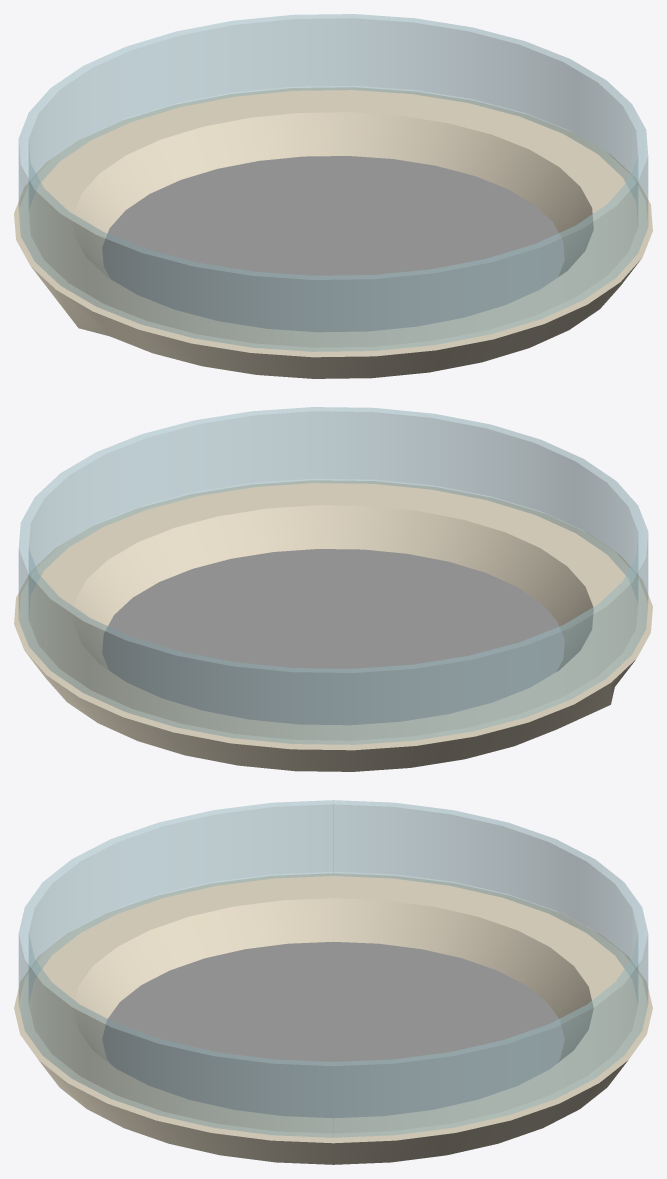
Rendered from Room_Base.glb.
3 renders of one model, top to bottom at view 1: azimuth 30°, elevation 25°; view 2: azimuth 150°, elevation 25°; view 3: azimuth 270°, elevation 25°, orthographic.
Parts seen in each view (by area): view 1: Room_Base.001; view 2: Room_Base.001; view 3: Room_Base.001.
Part boxes in pixels (bbox=[...]): Room_Base.001: bbox=[14, 14, 652, 378]; Room_Base.001: bbox=[14, 407, 652, 771]; Room_Base.001: bbox=[14, 800, 652, 1164].
Size of the model in its own units: 32.32 by 6.02 by 32.32.
